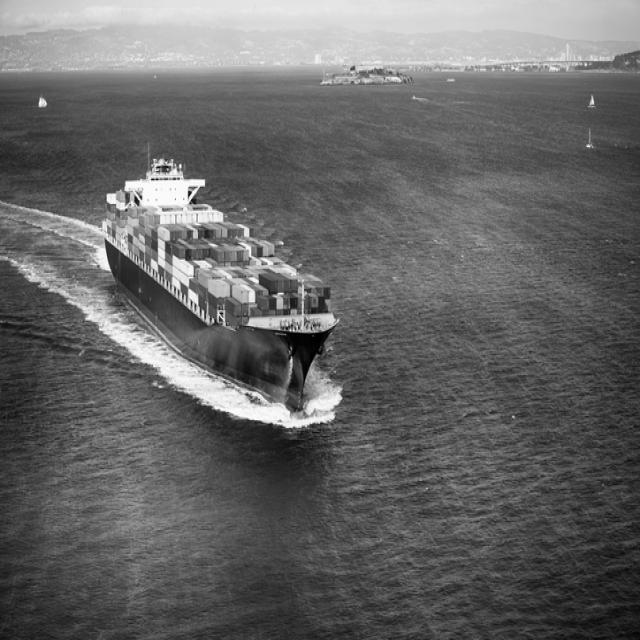Container Ship: (76, 139, 355, 467)
